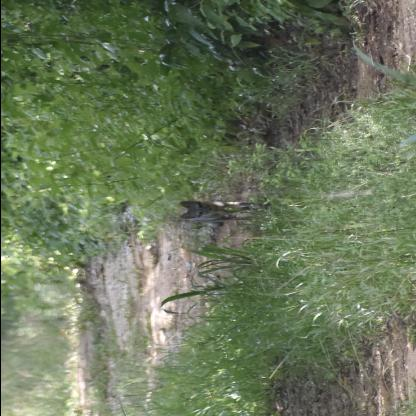zorro: (173, 193, 263, 229)
